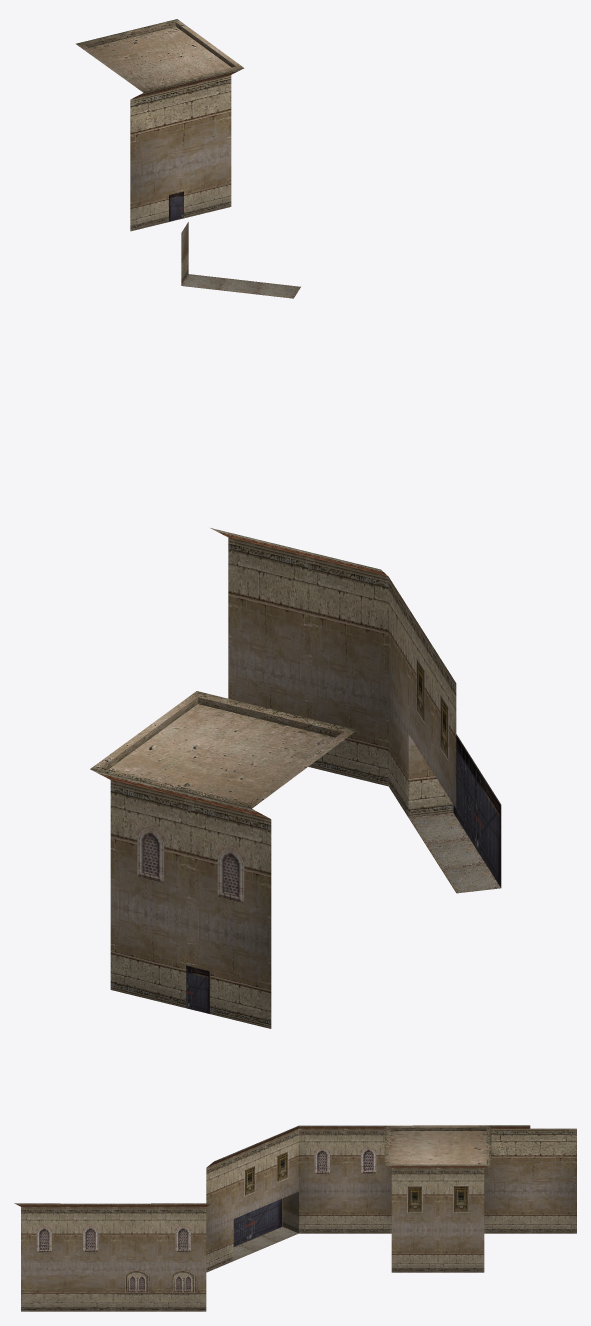
The model's file is M11Z1_Building05_B.glb.
3 renders of one model, top to bottom at view 1: azimuth 30°, elevation 25°; view 2: azimuth 150°, elevation 25°; view 3: azimuth 270°, elevation 25°, orthographic. The views are drawn at different scales.
Parts seen in each view (by area): view 1: M11Z1_BUILDING05_B; view 2: M11Z1_BUILDING05_B; view 3: M11Z1_BUILDING05_B.
Part boxes in pixels (x1,y1,x2,y2): M11Z1_BUILDING05_B: (76,19,300,298); M11Z1_BUILDING05_B: (90,528,501,1028); M11Z1_BUILDING05_B: (14,1125,576,1311).
Bounding box in the file's own units: 18.03 × 10.6 × 48.62.
Materials: 7 (7 with a texture image).
